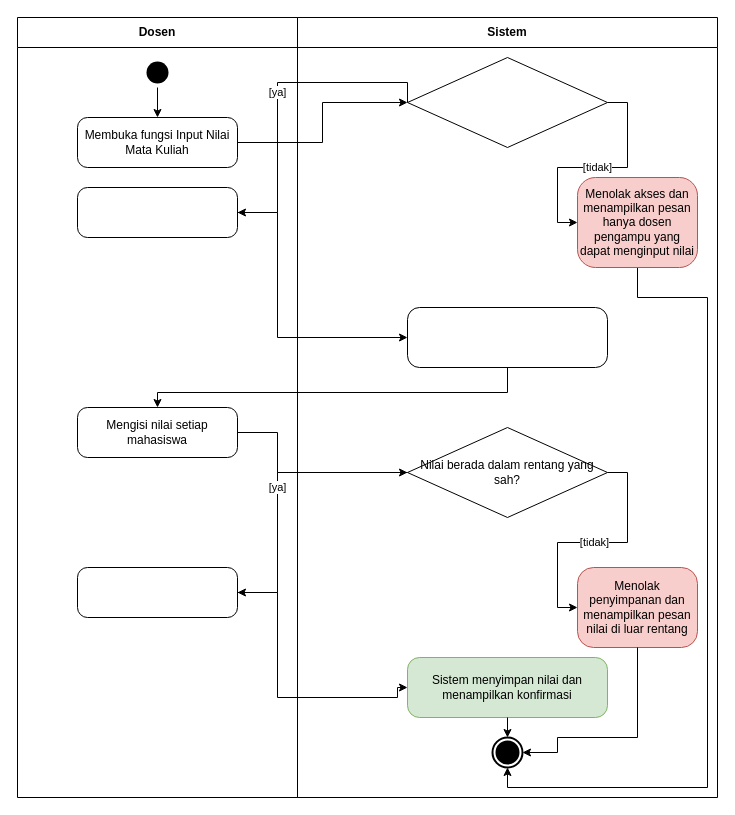
Image size: 735x815. Some labels were removed from this diagram. The shapes that lost their labels are listed below. From the top down, each one's box as (x1, y1, x2, y2) in pixels, then its label:
(406, 56, 608, 148): Dosen adalah pengampu mata kuliah?
(76, 186, 238, 238): Memilih mata kuliah
(406, 306, 608, 368): Menampilkan daftar mahasiswa beserta kolom nilai
(76, 566, 238, 618): Menyimpan nilai
